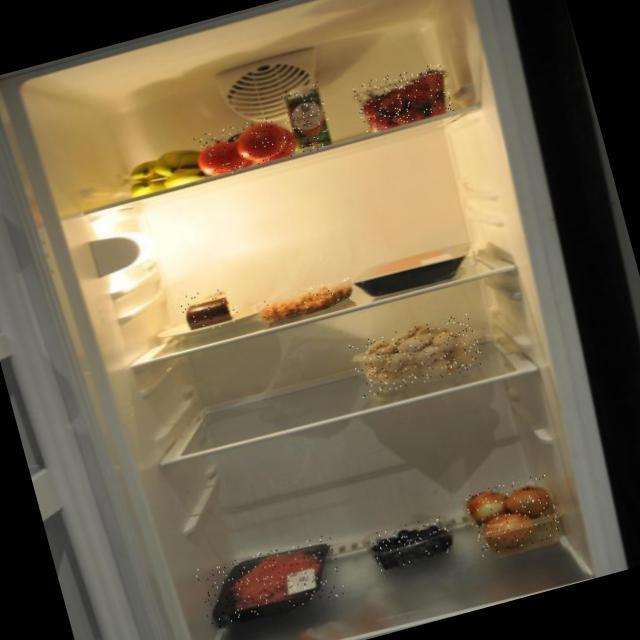Carne vacuno: (195, 534, 346, 630)
Cebolla: (464, 472, 562, 556)
Champiñones: (349, 312, 485, 399)
Gambas/Langostinos: (256, 277, 355, 325)
Plátano: (122, 144, 208, 198)
Queso: (179, 284, 241, 335)
blueberries: (367, 513, 453, 572)
heavy_cream: (279, 81, 335, 155)
strawberries: (352, 61, 454, 135)
tomato paste: (191, 110, 303, 181)
